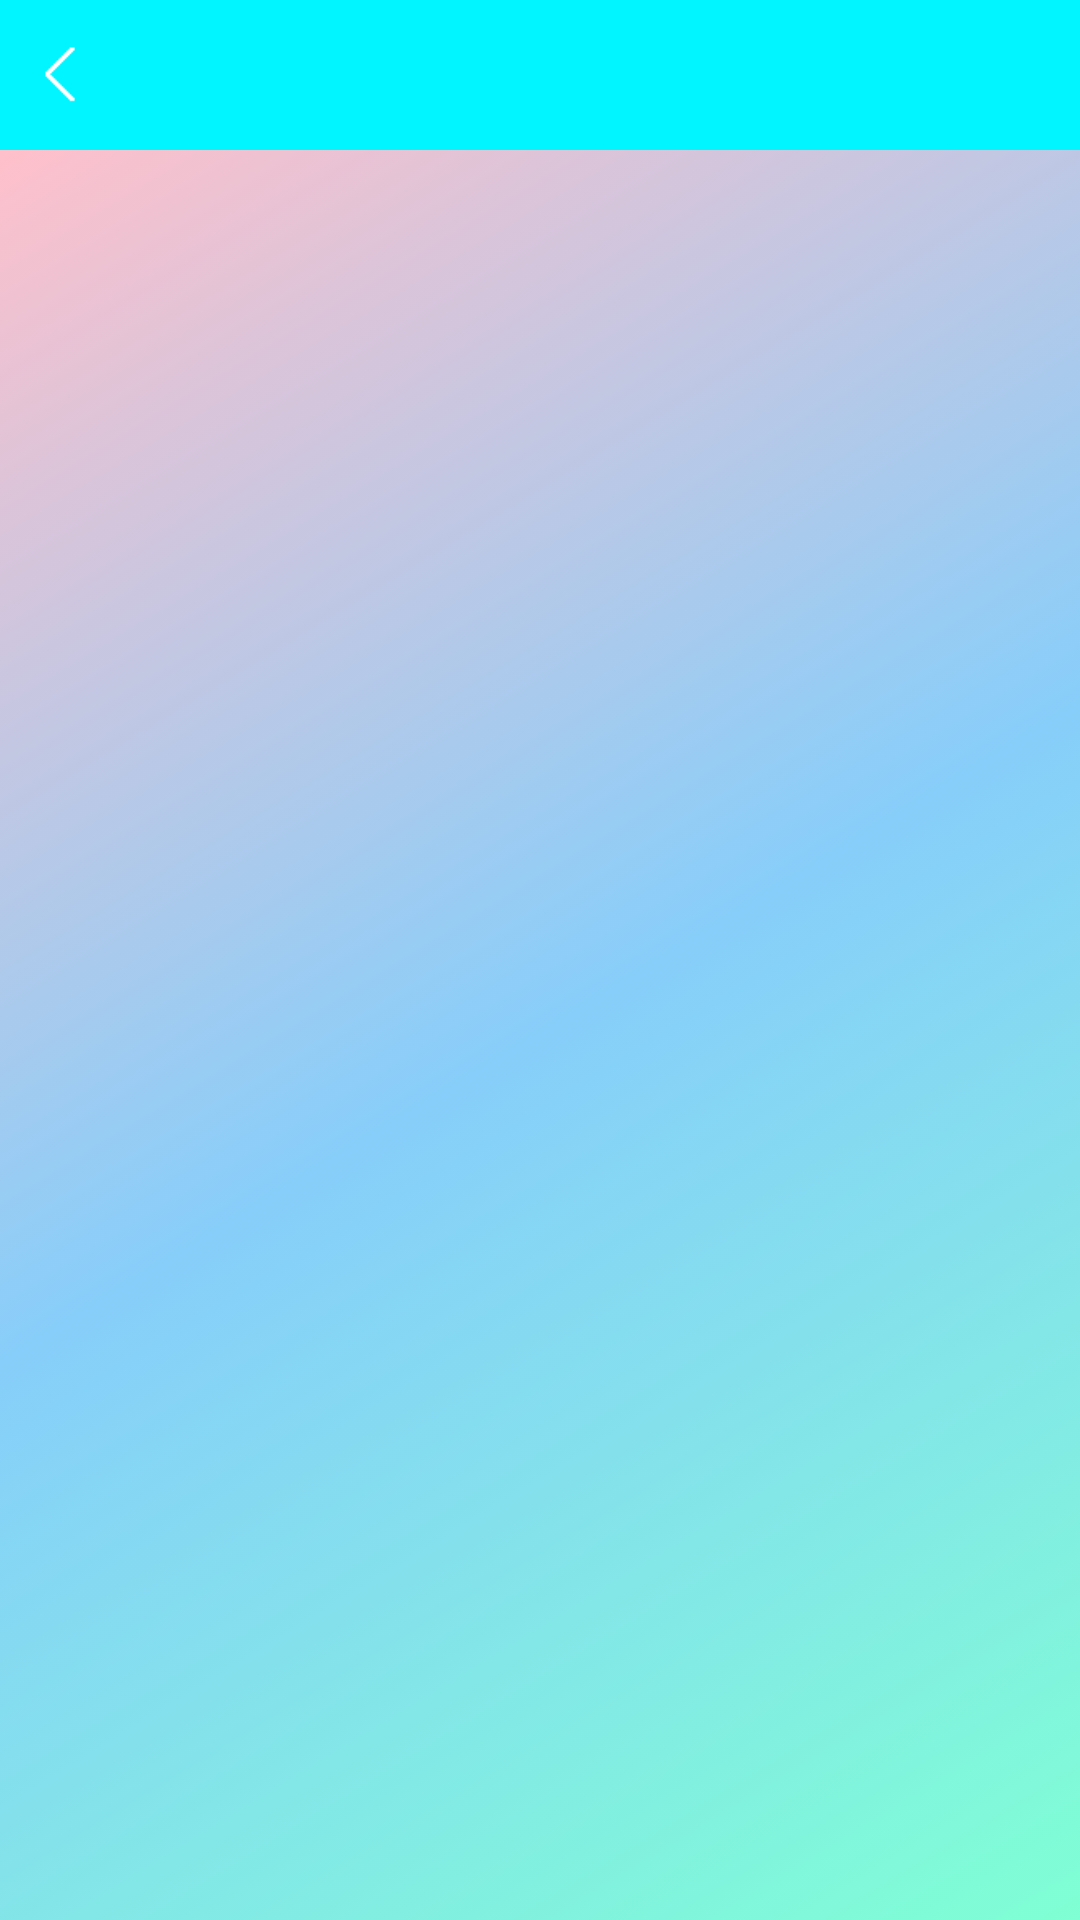

Icon click points for this 1080w x 1920h phone screenshot, format (x,y):
back: (60,74)
